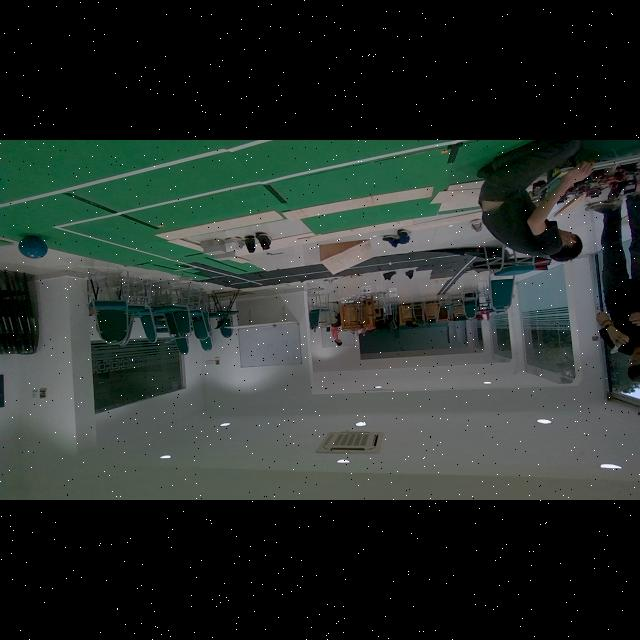B: (19, 236, 48, 259)
